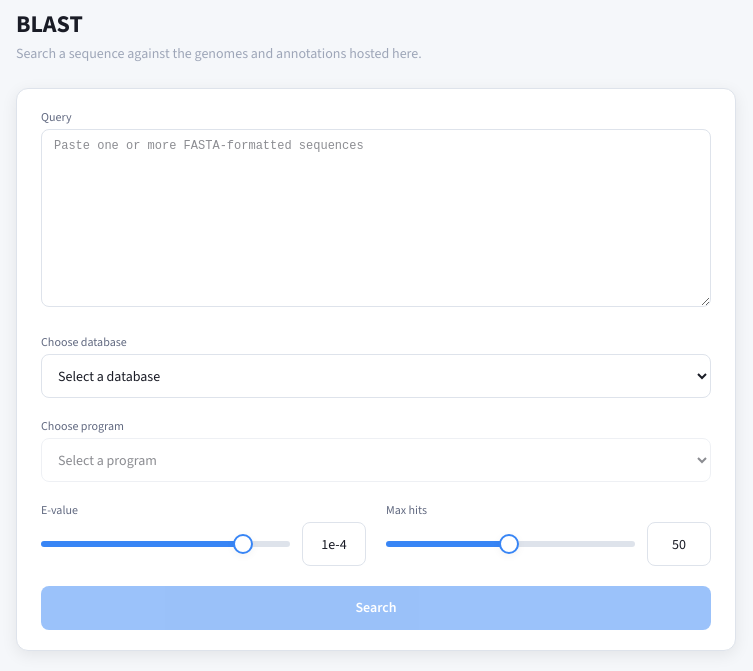
Test: BlastPage › applies a typed e-value of 100 as 10
The image size is (753, 671).
Replace the text in the field named "e-value" with "100" at (334, 544), box [302, 522, 366, 566]
Then press Enter
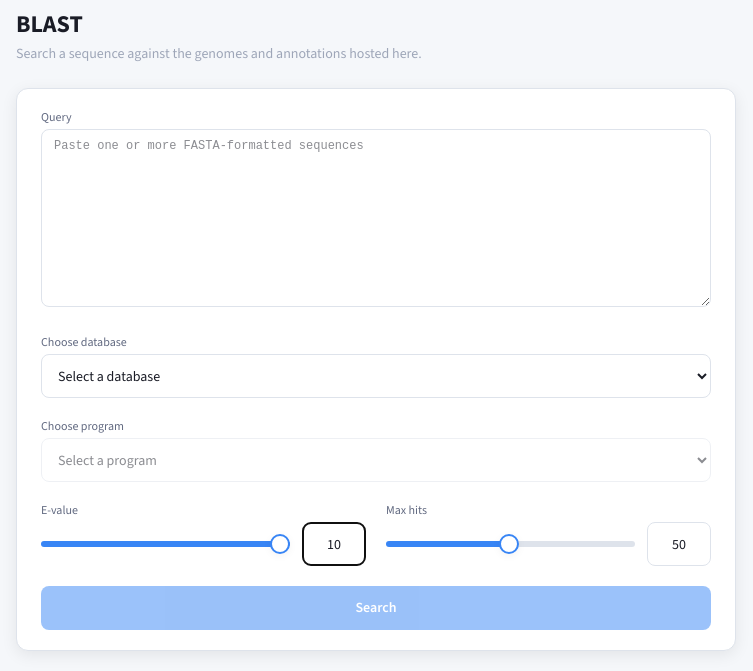
Now the field named "e-value" holds "10", box [302, 522, 366, 566]
Now the slider labelled "E-value" holds "1", box [41, 541, 290, 547]
